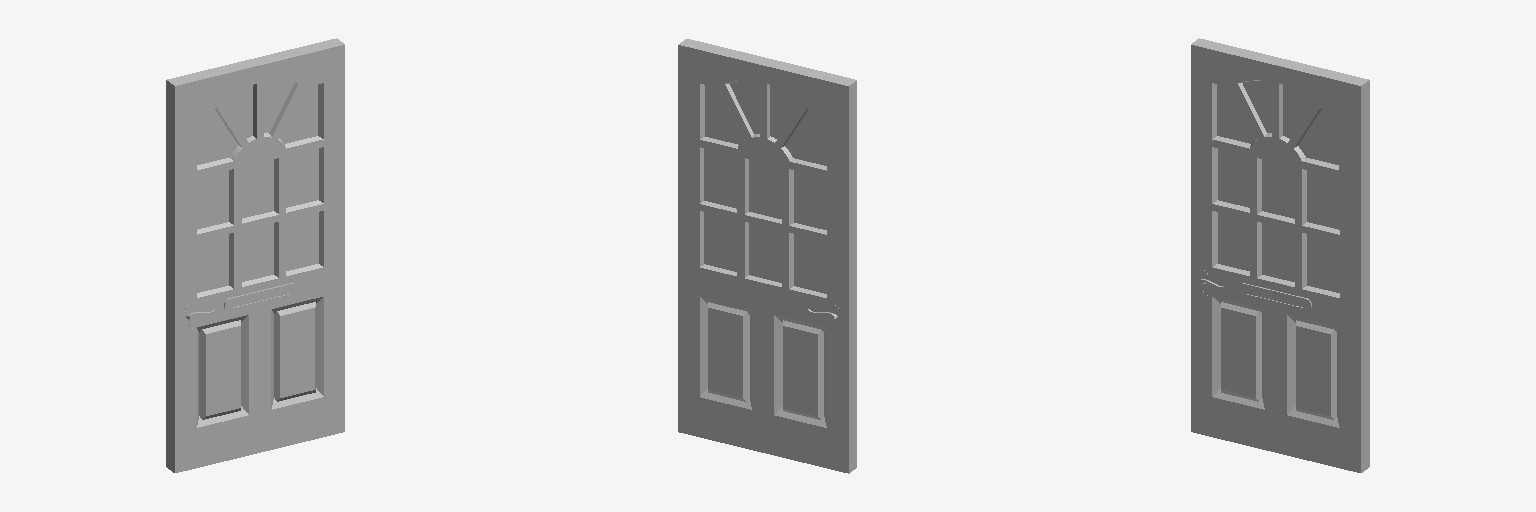
The model's file is door_000020.obj.
3 views of the same model, side by side, from view 1: azimuth 30°, elevation 25°; view 2: azimuth 150°, elevation 25°; view 3: azimuth 330°, elevation 25° (orthographic).
Visible parts, largest first — view 1: Door.003; view 2: Door.003; view 3: Door.003.
Part boxes in pixels (x1,y1,x2,y2): Door.003: (166,38,344,472); Door.003: (678,39,856,473); Door.003: (1191,38,1369,472).
Bounding box in the file's own units: 0.7394 × 1.6 × 0.1145.